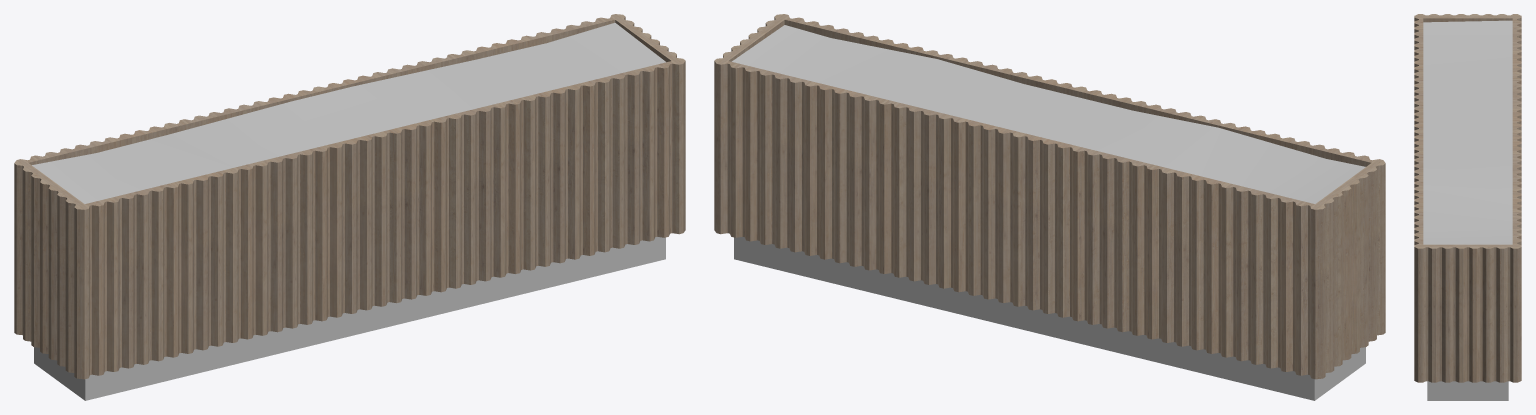
File: D_Pot_006_a.fbx
The picture shows the model from 3 angles, left to right: view 1: azimuth 30°, elevation 25°; view 2: azimuth 150°, elevation 25°; view 3: azimuth 270°, elevation 25°; orthographic projection. The views are drawn at different scales.
Visible parts, largest first — view 1: D_Pot_006_a; view 2: D_Pot_006_a; view 3: D_Pot_006_a.
Part boxes in pixels (bbox=[...]): D_Pot_006_a: bbox=[14, 14, 685, 400]; D_Pot_006_a: bbox=[714, 14, 1385, 400]; D_Pot_006_a: bbox=[1414, 14, 1521, 400].
Size of the model in its own units: 2.49 by 0.7777 by 0.4807.
